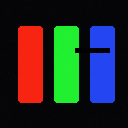3 line_h: (75, 48, 109, 52)
